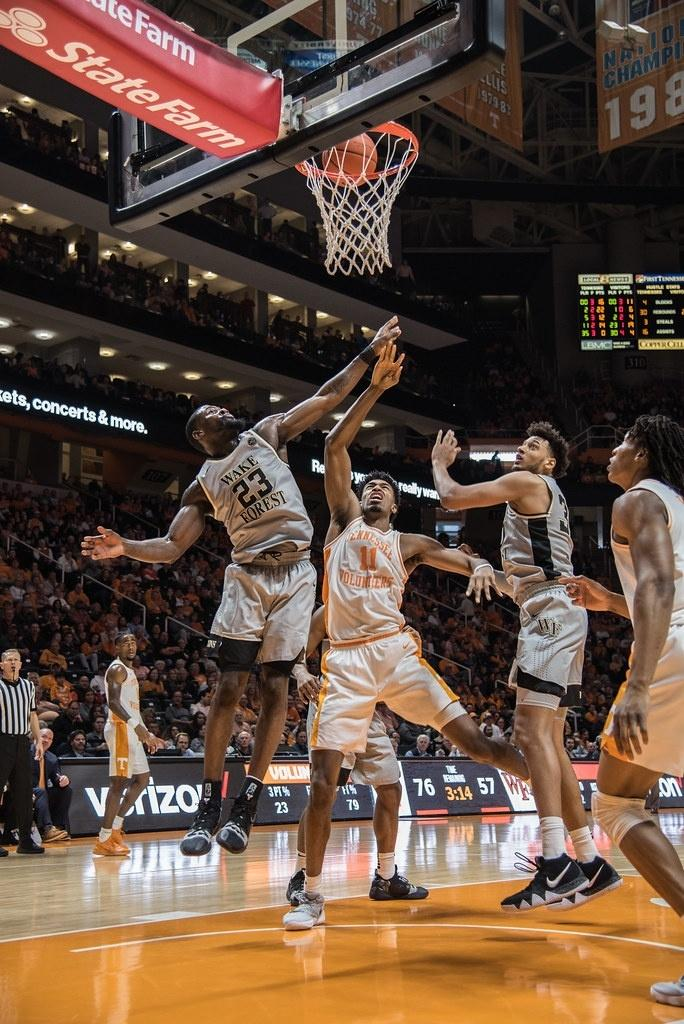basketball-player: (78, 314, 405, 856), (300, 348, 540, 956), (430, 398, 600, 908), (584, 390, 684, 1020), (66, 606, 166, 881)
